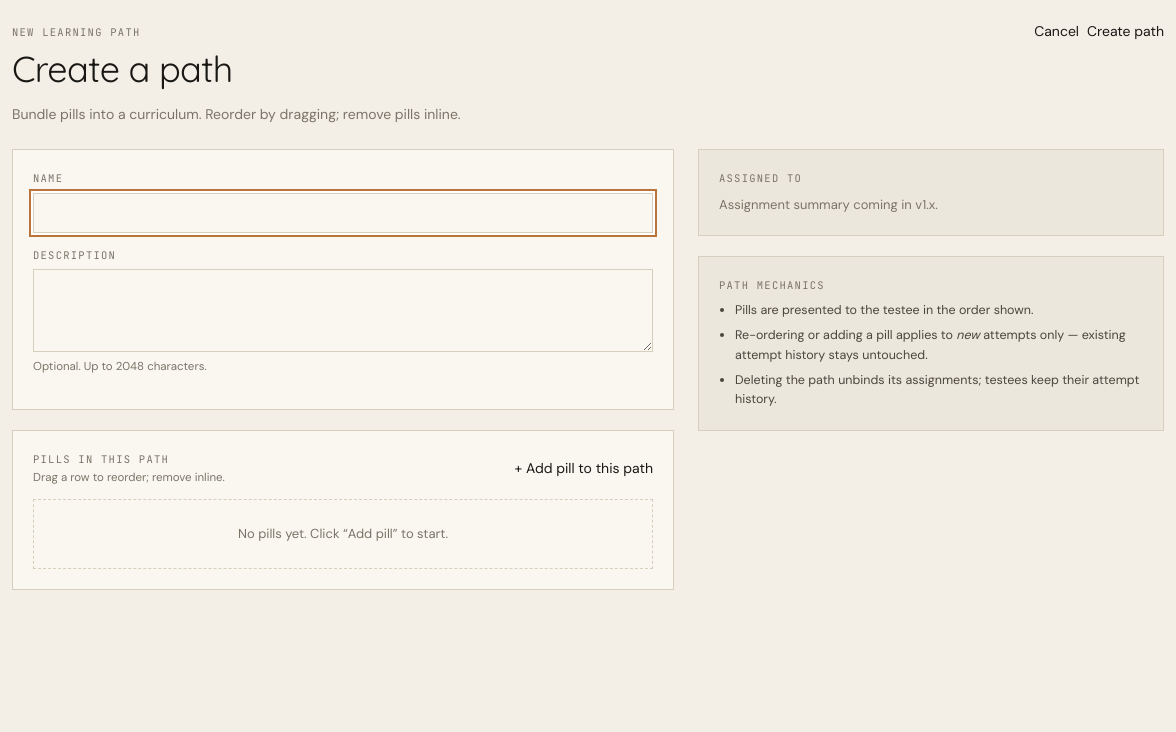
Scenario: path editor — create mode (`/admin/paths/new/edit`) › rejects submit with empty name (zod min(1))
Click the button with test id "path-editor-save" at {"x": 1126, "y": 32}, box [1087,12,1164,52]
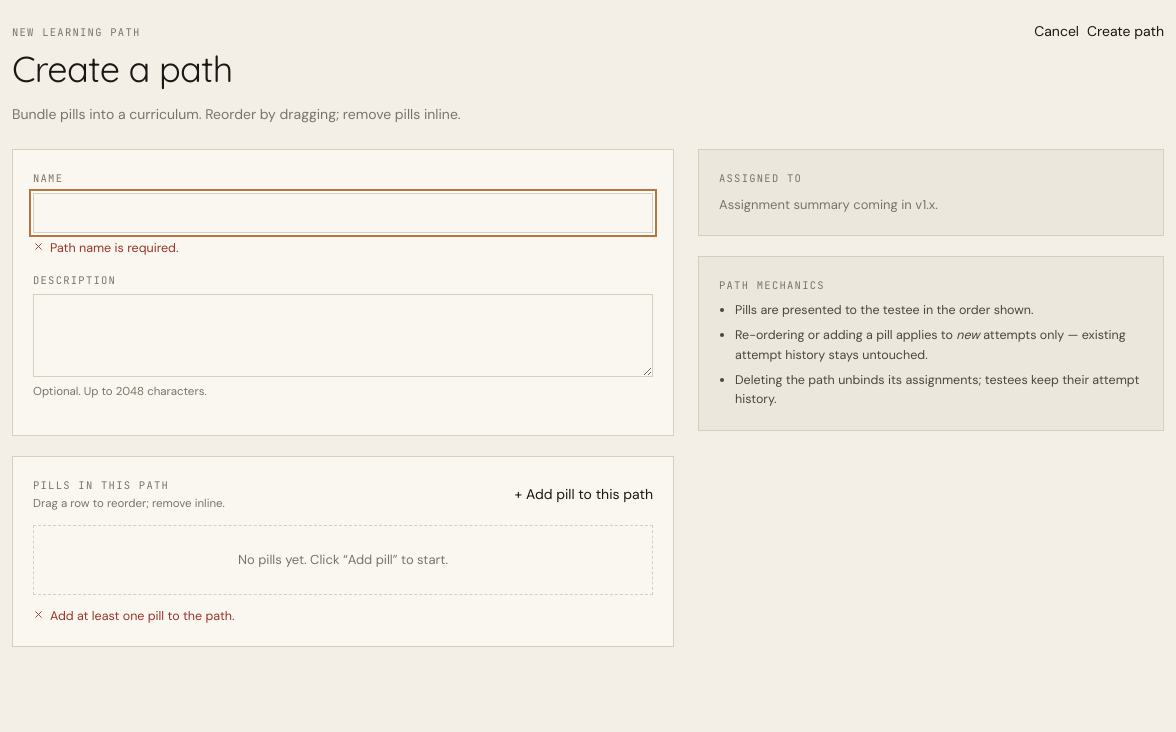
Check: the text "Path name is required." is shown, box [50,238,178,258]
